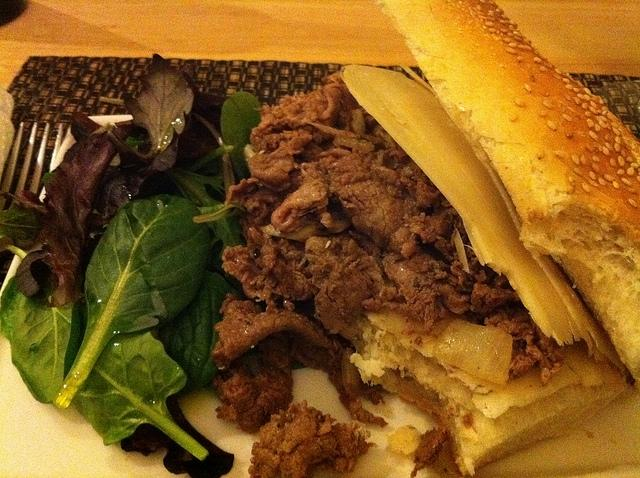onion: (433, 318, 512, 385), (563, 346, 623, 387), (260, 224, 318, 241), (334, 137, 374, 152)
